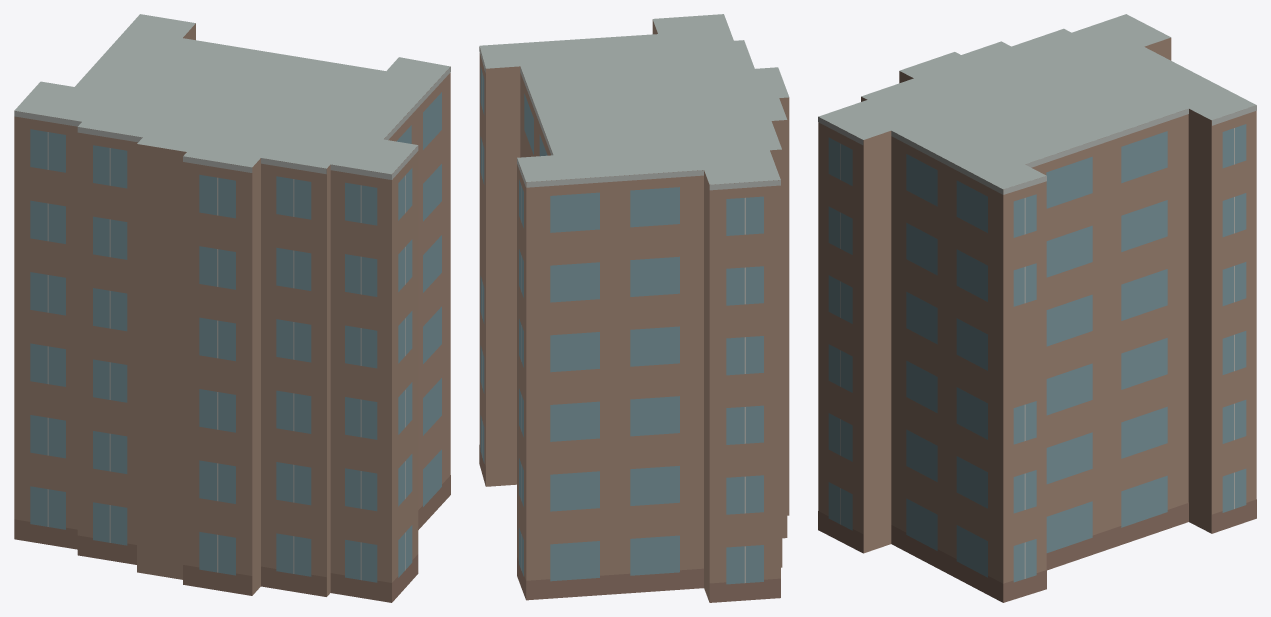
File: survey-upis-32749337.glb
3 renders of one model, left to right at view 1: azimuth 30°, elevation 25°; view 2: azimuth 150°, elevation 25°; view 3: azimuth 270°, elevation 25°, orthographic. The views are drawn at different scales.
Visible parts, largest first — view 1: survey-upis-32749337.tmp; view 2: survey-upis-32749337.tmp; view 3: survey-upis-32749337.tmp.
Boxes of the visible parts, x1=… form: survey-upis-32749337.tmp: x1=14, y1=14, x2=450, y2=602; survey-upis-32749337.tmp: x1=479, y1=14, x2=789, y2=602; survey-upis-32749337.tmp: x1=818, y1=14, x2=1256, y2=602.
Size of the model in its own units: 16.66 by 18.3 by 17.6.
